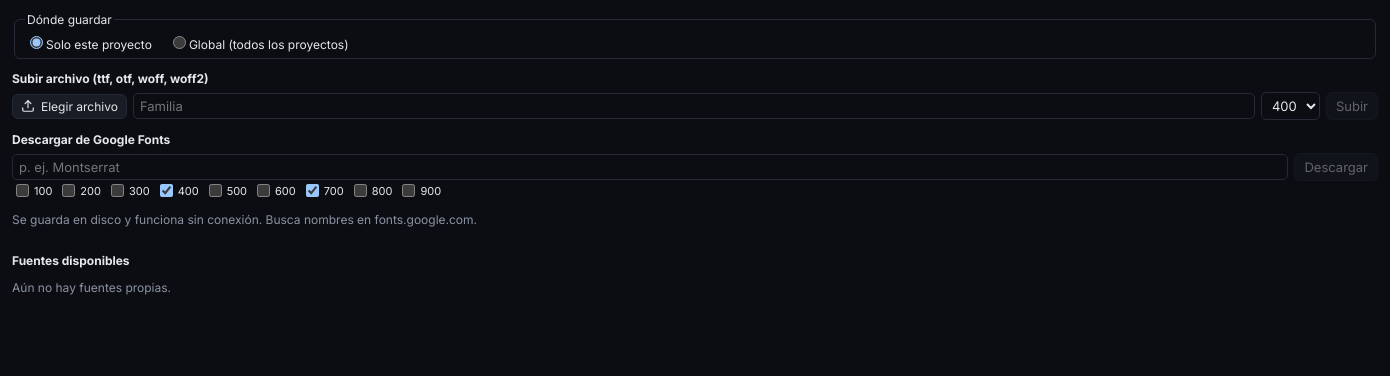
Test: BrandFontManager › downloads a Google family with the checked weights
Type " Montserrat " into the field named "Familia de Google Fonts" at (650, 167), box [12,154,1288,180]
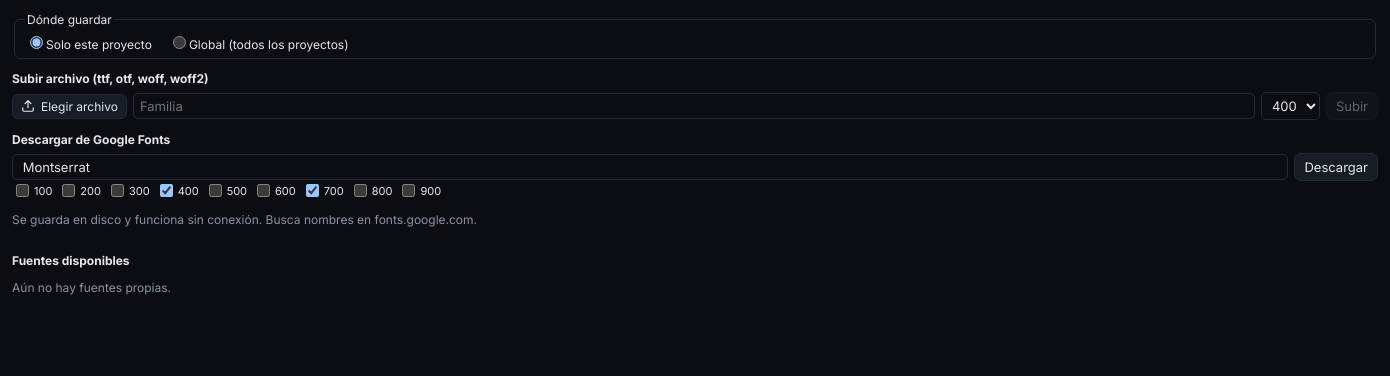
// 400 and 700 are checked at first: drop 700, add 900
Click the checkbox labelled "700" at (312, 190), box [306,184,319,197]
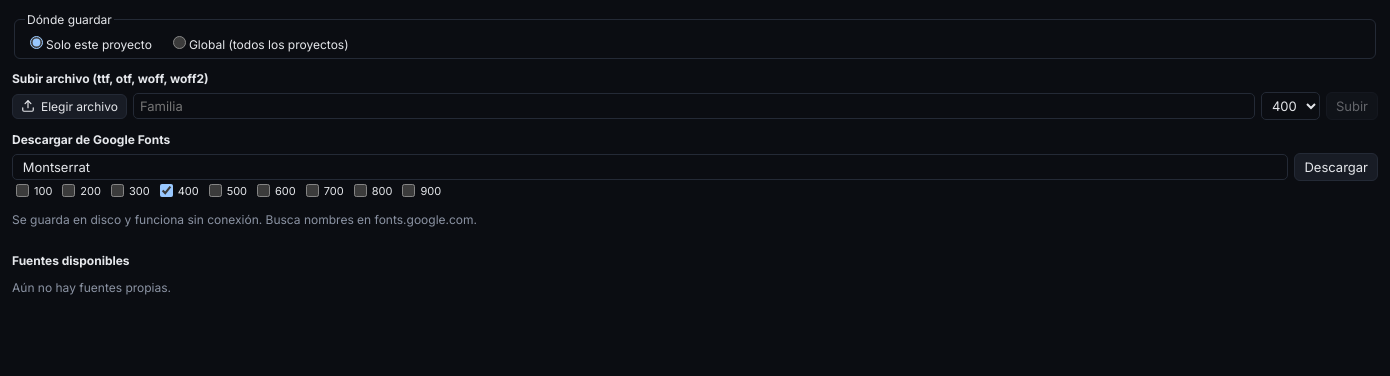
Click the checkbox labelled "900" at (409, 190), box [402,184,415,197]
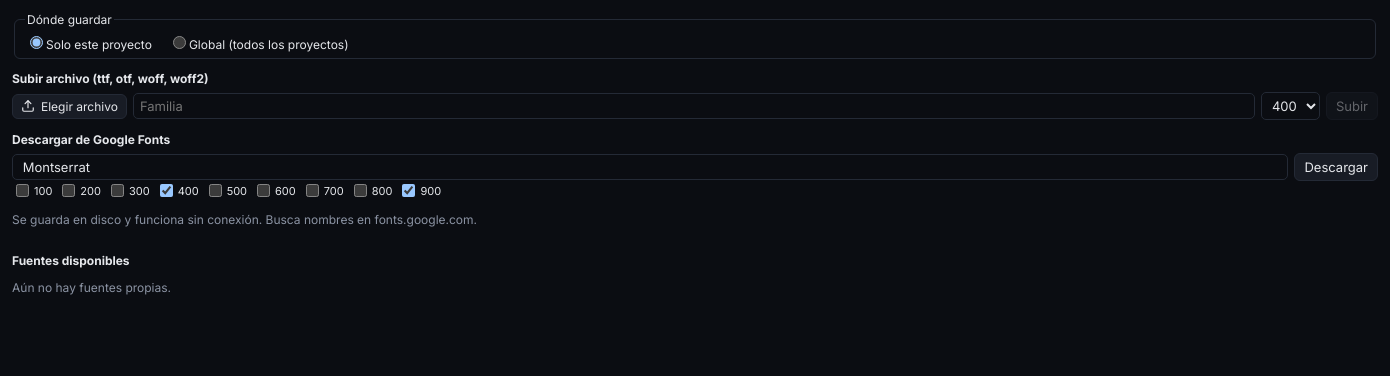
Click the button "Descargar" at (1336, 167), box [1294,153,1378,181]
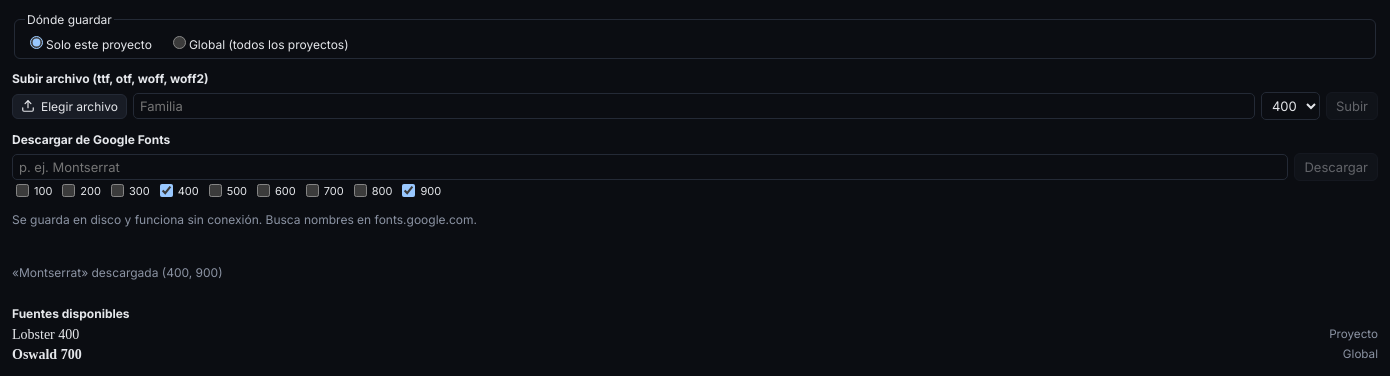
Expected: the text "«Montserrat» descargada (400, 900)" is shown, [12,265,222,280]
